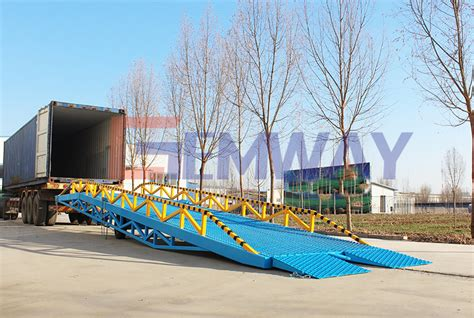Yard Ramp: (55, 191, 431, 278)
